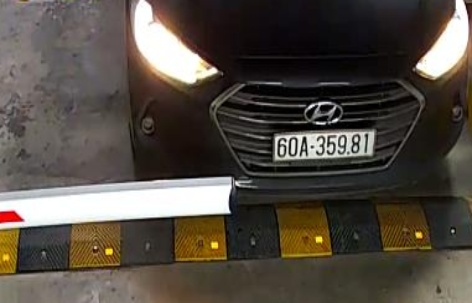plate: (266, 120, 376, 165)
